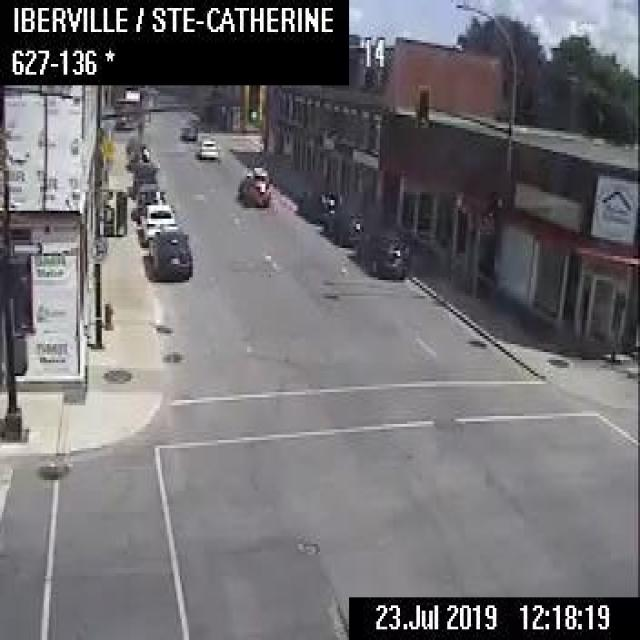vehicle: (355, 227, 409, 278), (147, 226, 193, 276), (296, 183, 342, 223), (138, 201, 177, 244), (322, 202, 361, 244), (236, 166, 269, 206), (132, 180, 164, 215), (130, 166, 156, 188), (194, 134, 218, 157), (179, 123, 197, 139)
